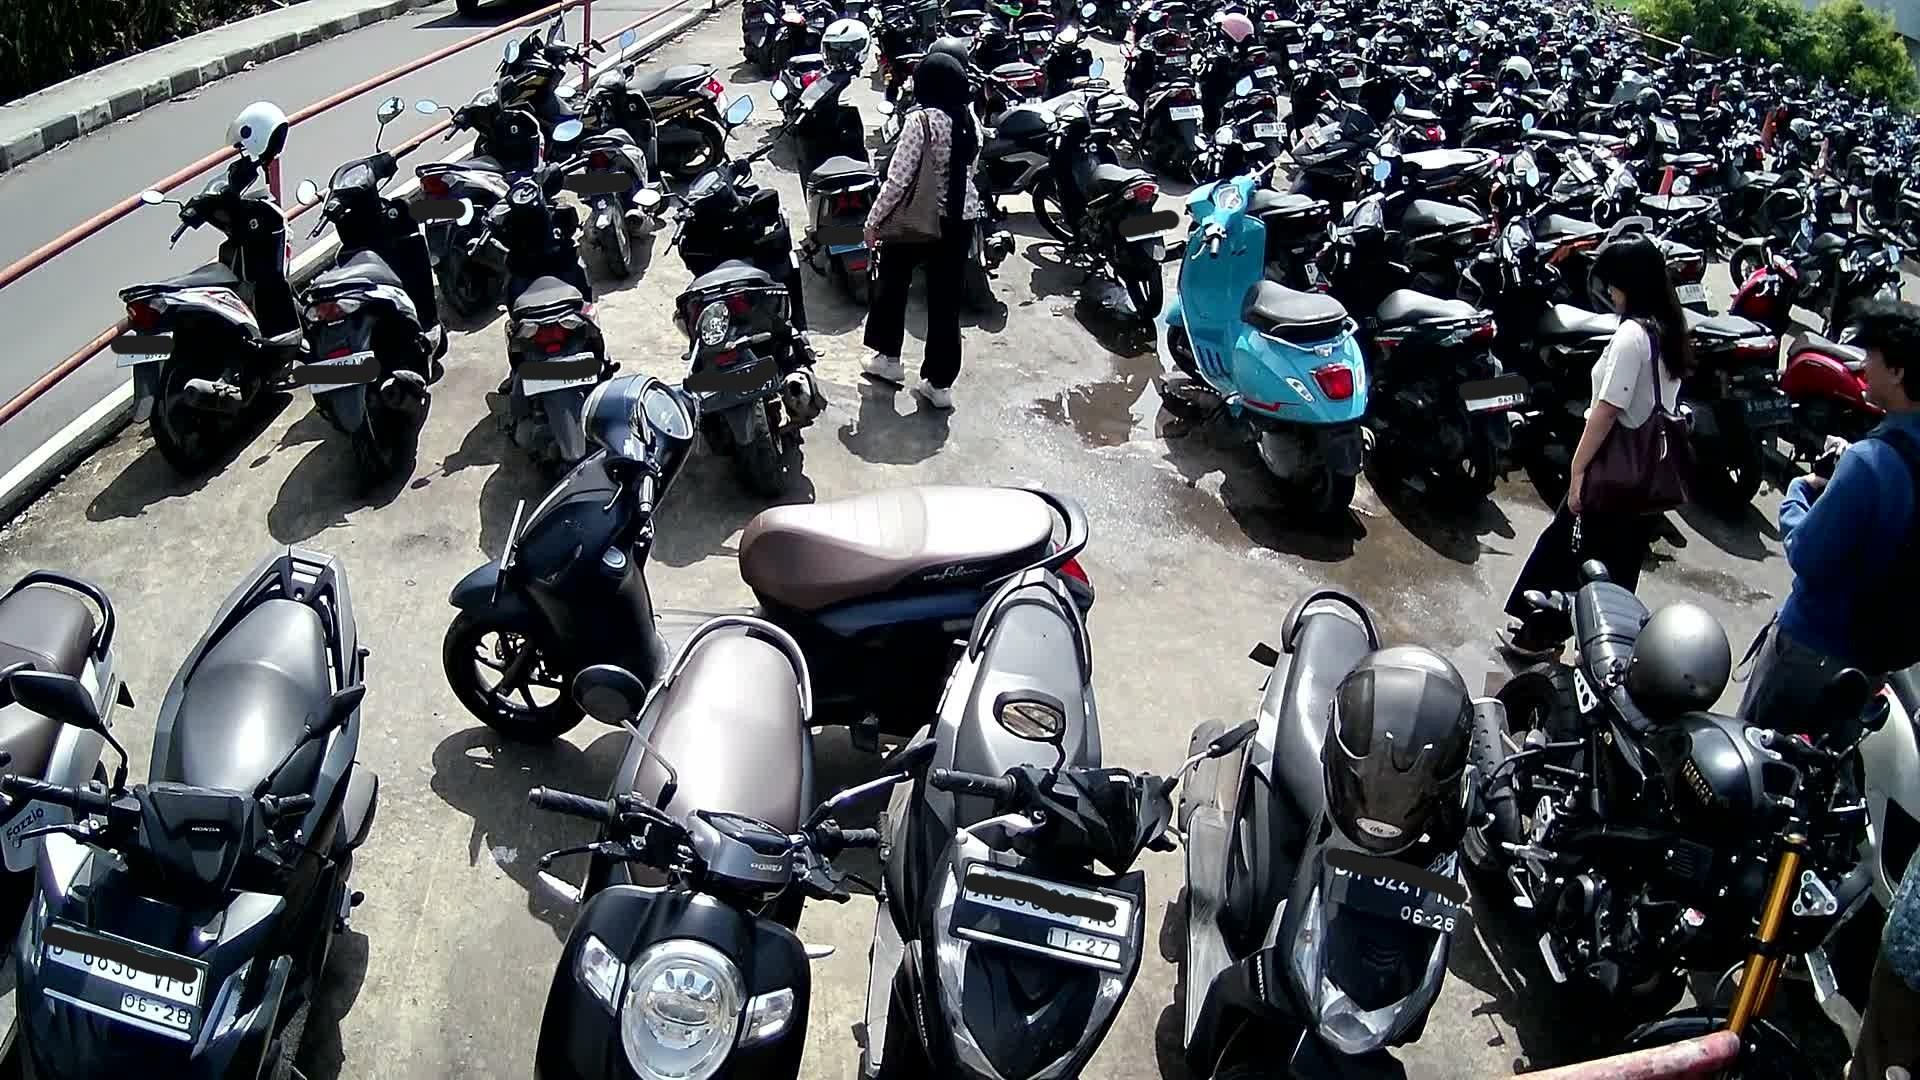motorcycle: (443, 301, 1095, 746), (1455, 556, 1920, 1080), (9, 542, 384, 1080), (858, 567, 1193, 1080), (529, 613, 881, 1080), (1180, 588, 1505, 1080), (633, 100, 833, 496), (1315, 164, 1534, 514), (1164, 156, 1374, 514), (109, 107, 299, 468), (0, 568, 138, 975), (299, 100, 448, 473), (458, 120, 617, 467), (1464, 206, 1604, 465), (1730, 251, 1878, 456), (1676, 301, 1795, 509)
